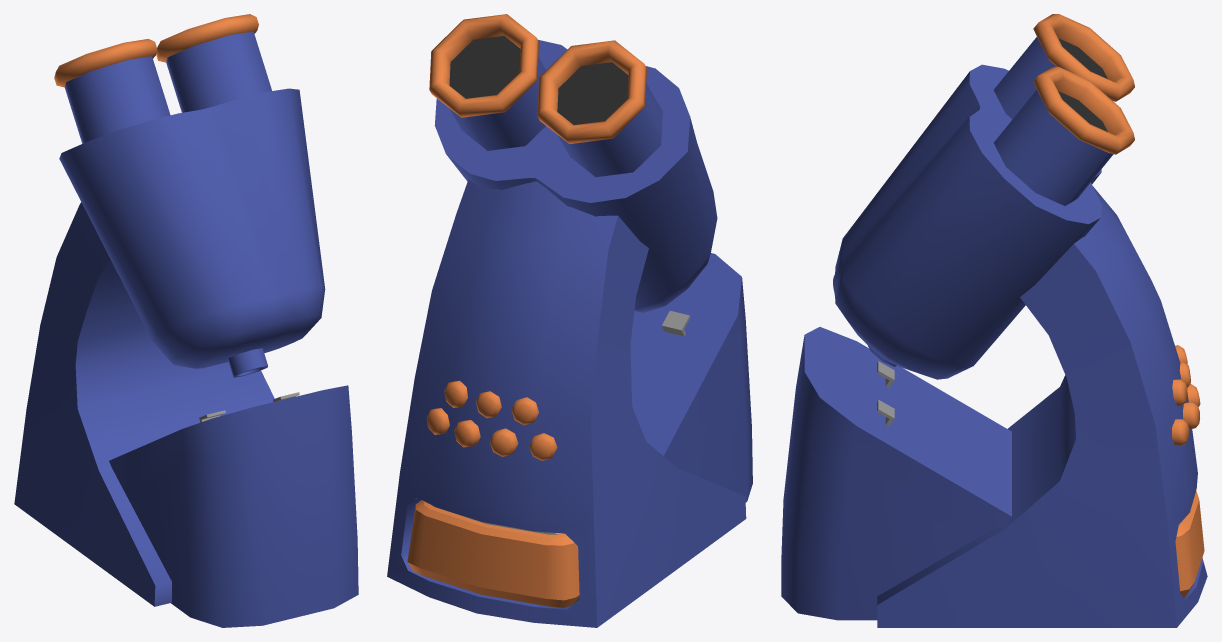
Rendered from Microscope_01.fbx.
3 views of the same model, side by side, from view 1: azimuth 30°, elevation 25°; view 2: azimuth 150°, elevation 25°; view 3: azimuth 270°, elevation 25° (orthographic). The views are drawn at different scales.
Visible parts, largest first — view 1: Microscope_01; view 2: Microscope_01, Microscope_01_Case; view 3: Microscope_01, Microscope_01_Case.
Boxes of the visible parts, x1,y1,x2,y2 form: Microscope_01: (14, 14, 358, 627); Microscope_01: (387, 14, 752, 627); Microscope_01_Case: (407, 500, 579, 607); Microscope_01: (781, 14, 1207, 627); Microscope_01_Case: (1175, 491, 1204, 597).
Bounding box in the file's own units: 0.2029 × 0.4077 × 0.2973.
